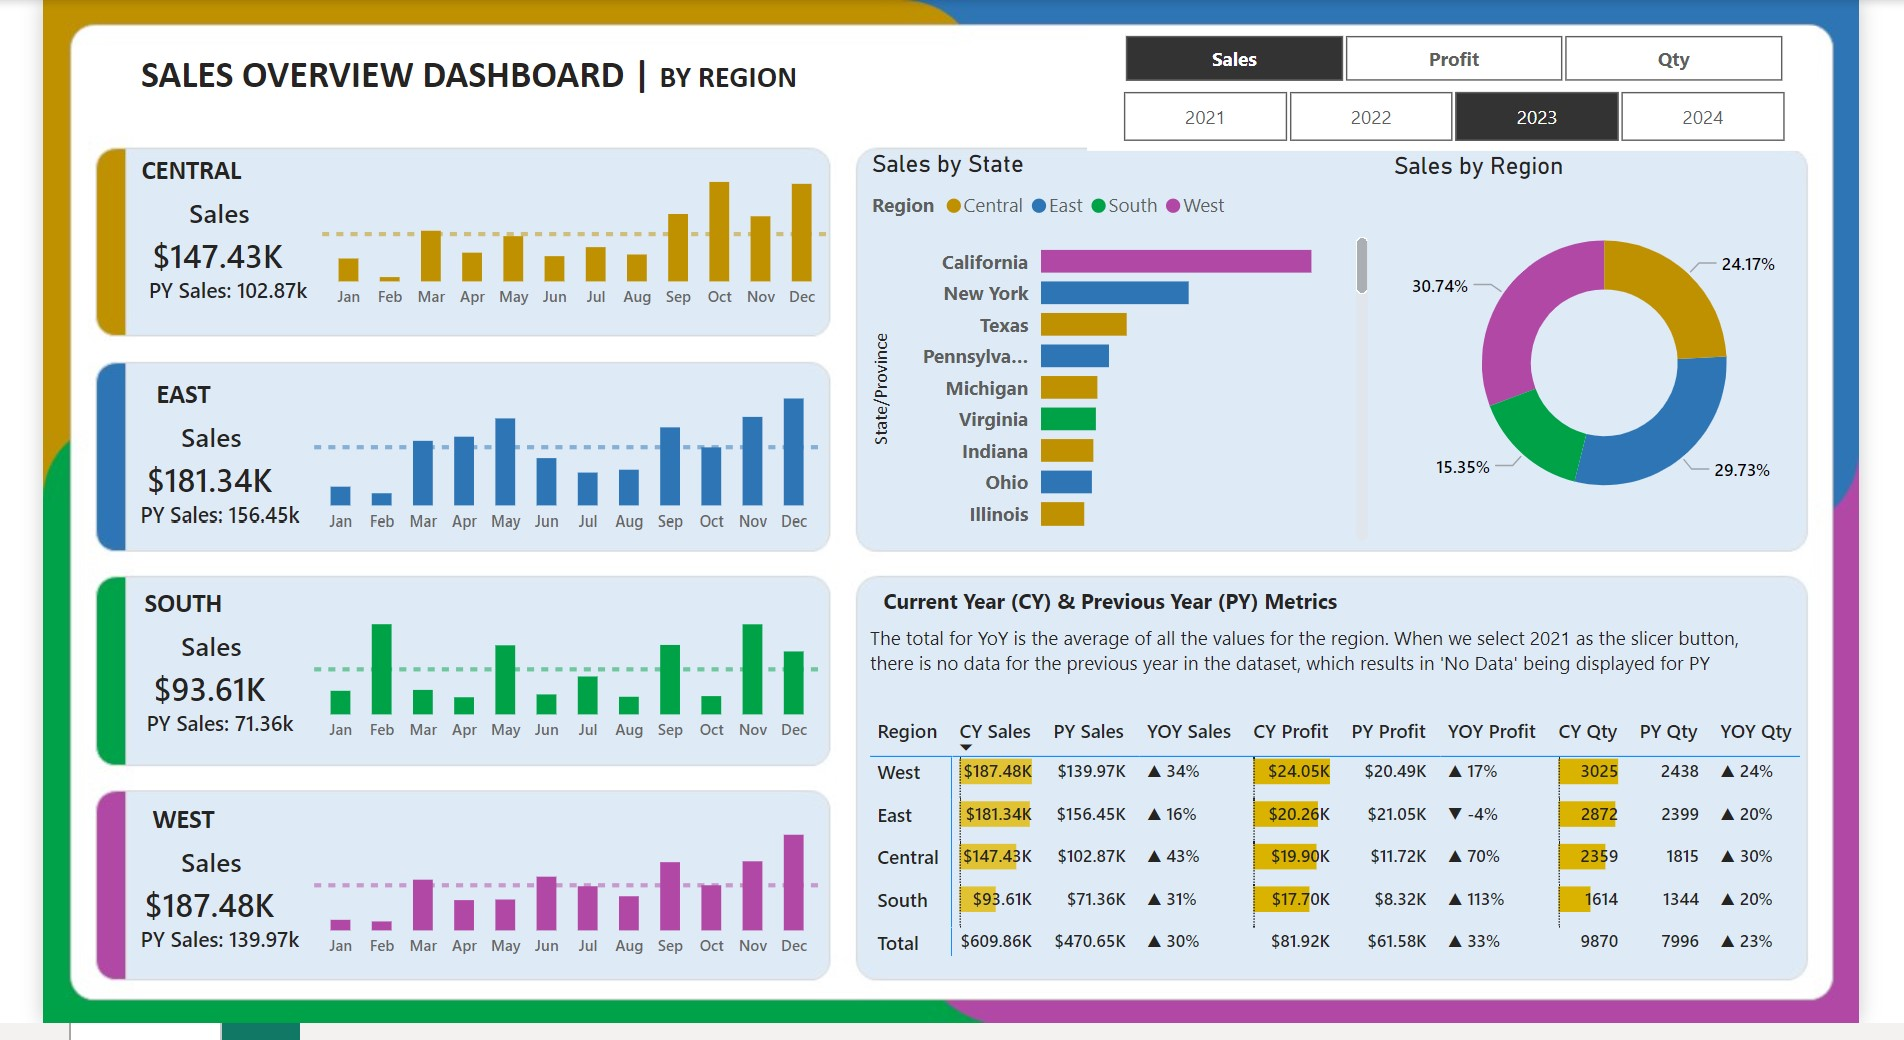

The dashboard page shown, as its layout file describes it:
{"tool":"powerbi","page":{"name":"Page 1","canvas":[1280,720],"ordinal":0},"visuals":[{"type":"slicer","fields":{"Values":["Select Metric.Select Metric"]},"box":[737.2,18.7,512.3,45.3],"z":0},{"type":"card","fields":{"Values":["Sales Data.Total Sales"]},"box":[48.4,156.2,149.9,50],"z":0,"group":"g1"},{"type":"card","fields":{"Values":["Sales Data.Total Sales"]},"box":[42.2,313.9,149.9,50],"z":0,"group":"g2"},{"type":"card","fields":{"Values":["Sales Data.Total Sales"]},"box":[42.2,460.7,149.9,50],"z":0,"group":"g3"},{"type":"card","fields":{"Values":["Sales Data.Total Sales"]},"box":[42.2,612.2,149.9,50],"z":0,"group":"g4"},{"type":"slicer","fields":{"Values":["Calender Table.Year"]},"box":[735.6,57.8,515.4,48.4],"z":1000},{"type":"textbox","box":[59.3,103.1,90.6,35.9],"z":1000,"group":"g1"},{"type":"textbox","box":[53.1,260.8,90.6,35.9],"z":1000,"group":"g2"},{"type":"textbox","box":[53.1,407.6,90.6,35.9],"z":1000,"group":"g3"},{"type":"textbox","box":[53.1,559.1,90.6,35.9],"z":1000,"group":"g4"},{"type":"card","fields":{"Values":["Sales Data.Dynamic Title"]},"box":[56.2,134.3,135.9,35.9],"z":2000,"group":"g1"},{"type":"card","fields":{"Values":["Sales Data.Dynamic Title"]},"box":[50,292,135.9,35.9],"z":2000,"group":"g2"},{"type":"card","fields":{"Values":["Sales Data.Dynamic Title"]},"box":[50,438.8,135.9,35.9],"z":2000,"group":"g3"},{"type":"card","fields":{"Values":["Sales Data.Dynamic Title"]},"box":[50,590.3,135.9,35.9],"z":2000,"group":"g4"},{"type":"textbox","box":[48.4,31.2,504.5,65.6],"z":3000},{"type":"card","fields":{"Values":["Sales Data.PK KPI Sales"]},"box":[59.3,187.4,142.1,39],"z":3000,"group":"g1"},{"type":"card","fields":{"Values":["Sales Data.PK KPI Sales"]},"box":[53.1,345.1,142.1,39],"z":3000,"group":"g2"},{"type":"card","fields":{"Values":["Sales Data.PK KPI Sales"]},"box":[53.1,491.9,142.1,39],"z":3000,"group":"g3"},{"type":"card","fields":{"Values":["Sales Data.PK KPI Sales"]},"box":[53.1,643.4,142.1,39],"z":3000,"group":"g4"},{"type":"group","id":"g1","title":"Group 1","box":[48.4,103.1,510.7,123.4],"z":4000},{"type":"clusteredColumnChart","fields":{"Y":["Sales Data.Total Sales"],"Category":["Calender Table.Month"]},"box":[192.1,103.1,367,123.4],"z":4000,"group":"g1"},{"type":"clusteredColumnChart","fields":{"Y":["Sales Data.Total Sales"],"Category":["Calender Table.Month"]},"box":[185.9,260.8,367,123.4],"z":4000,"group":"g2"},{"type":"clusteredColumnChart","fields":{"Y":["Sales Data.Total Sales"],"Category":["Calender Table.Month"]},"box":[185.9,407.6,367,123.4],"z":4000,"group":"g3"},{"type":"clusteredColumnChart","fields":{"Y":["Sales Data.Total Sales"],"Category":["Calender Table.Month"]},"box":[185.9,559.1,367,123.4],"z":4000,"group":"g4"},{"type":"group","id":"g2","title":"Group 1","box":[42.2,260.8,510.7,123.4],"z":5000},{"type":"group","id":"g3","title":"Group 1","box":[42.2,407.6,510.7,123.4],"z":5001},{"type":"group","id":"g4","title":"Group 1","box":[42.2,559.1,510.7,123.4],"z":5002},{"type":"barChart","title":"Sales by State ","fields":{"Category":["Sales Data.State/Province"],"Y":["Sales Data.Total Sales"],"Series":["Sales Data.Region"]},"box":[579.4,106.2,359.2,279.6],"z":5004},{"type":"pivotTable","fields":{"Rows":["Sales Data.Region"],"Values":["Sales Data.CY Sales","Sales Data.PY Sales","Sales Data.YOY Sales","Sales Data.CY Profit","Sales Data.PY Profit","Sales Data.YOY Profit","Sales Data.CY Qty","Sales Data.PY Qty","Sales Data.YOY Qty"]},"box":[577.9,498.2,671.6,182.7],"z":5005},{"type":"textbox","box":[577.9,407.6,348.3,35.9],"z":5006},{"type":"textbox","box":[577.9,434.2,652.8,64],"z":5007},{"type":"donutChart","title":"Sales by Region","fields":{"Category":["Sales Data.Region"],"Y":["Sales Data.Total Sales"]},"box":[946.5,107.8,306.1,278],"z":5008}]}

Visuals, with their boxes in screenshot pixels (x1, y1, x2, y2), scaled from the page's 1280x720 canvas onto the 1904x1040 screenshot:
slicer - Select Metric.Select Metric: (1097, 27, 1859, 92)
card - Sales Data.Total Sales: (72, 226, 295, 298)
card - Sales Data.Total Sales: (63, 453, 286, 526)
card - Sales Data.Total Sales: (63, 665, 286, 738)
card - Sales Data.Total Sales: (63, 884, 286, 957)
slicer - Calender Table.Year: (1094, 83, 1861, 153)
textbox: (88, 149, 223, 201)
textbox: (79, 377, 214, 429)
textbox: (79, 589, 214, 641)
textbox: (79, 808, 214, 859)
card - Sales Data.Dynamic Title: (84, 194, 286, 246)
card - Sales Data.Dynamic Title: (74, 422, 277, 474)
card - Sales Data.Dynamic Title: (74, 634, 277, 686)
card - Sales Data.Dynamic Title: (74, 853, 277, 905)
textbox: (72, 45, 822, 140)
card - Sales Data.PK KPI Sales: (88, 271, 300, 327)
card - Sales Data.PK KPI Sales: (79, 498, 290, 555)
card - Sales Data.PK KPI Sales: (79, 711, 290, 767)
card - Sales Data.PK KPI Sales: (79, 929, 290, 986)
"Group 1" group: (72, 149, 832, 327)
clusteredColumnChart - Sales Data.Total Sales x Calender Table.Month: (286, 149, 832, 327)
clusteredColumnChart - Sales Data.Total Sales x Calender Table.Month: (277, 377, 822, 555)
clusteredColumnChart - Sales Data.Total Sales x Calender Table.Month: (277, 589, 822, 767)
clusteredColumnChart - Sales Data.Total Sales x Calender Table.Month: (277, 808, 822, 986)
"Group 1" group: (63, 377, 822, 555)
"Group 1" group: (63, 589, 822, 767)
"Group 1" group: (63, 808, 822, 986)
"Sales by State " barChart: (862, 153, 1396, 557)
pivotTable - Sales Data.Region x Sales Data.CY Sales: (860, 720, 1859, 984)
textbox: (860, 589, 1378, 641)
textbox: (860, 627, 1831, 720)
"Sales by Region" donutChart: (1408, 156, 1863, 557)
